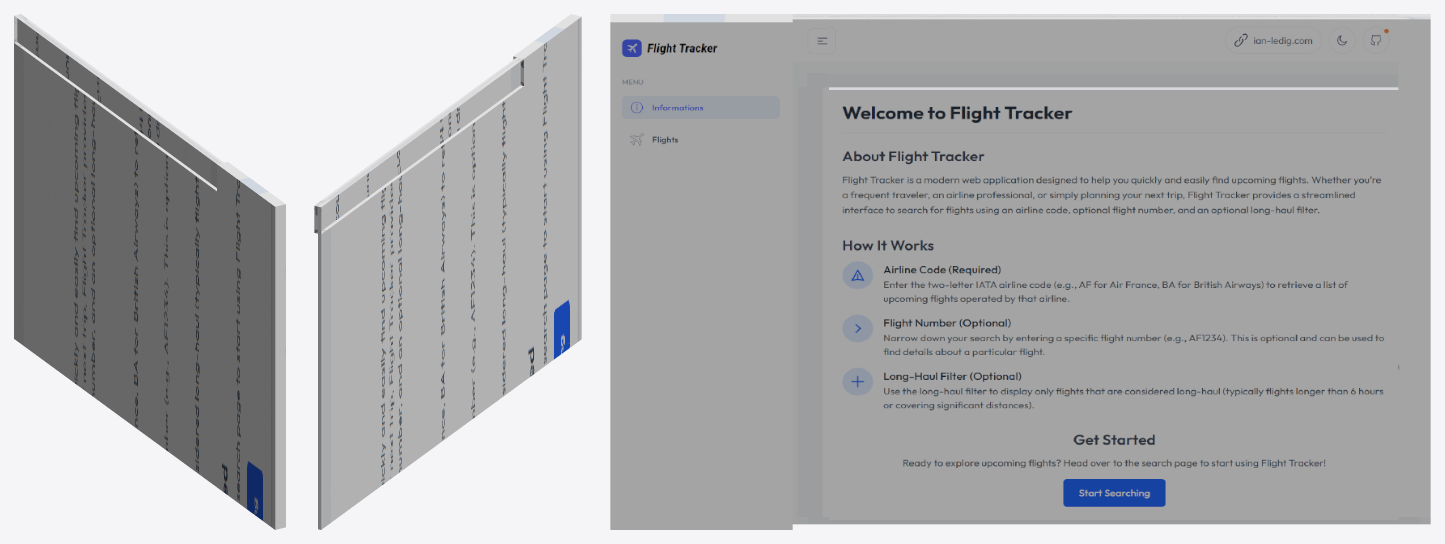
The model's file is flighttracker.glb.
3 views of the same model, side by side, from view 1: azimuth 30°, elevation 25°; view 2: azimuth 150°, elevation 25°; view 3: azimuth 270°, elevation 25° (orthographic). The views are drawn at different scales.
Parts seen in each view (by area): view 1: Cube; view 2: Cube; view 3: Cube.
Boxes of the visible parts, x1,y1,x2,y2 form: Cube: (14, 14, 285, 529); Cube: (314, 14, 581, 529); Cube: (610, 14, 1430, 529).
Size of the model in its own units: 0.2525 by 7.26 by 10.64.
Materials: 1 (1 with a texture image).
